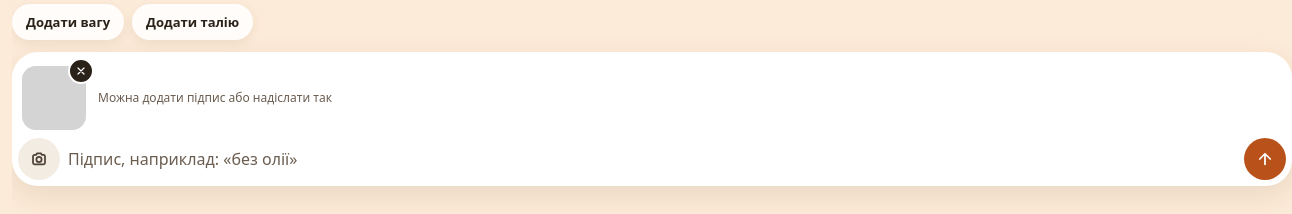
Test case: (3) the right slot: mic without a photo, «надіслати» with one › brings the mic back once the photo is removed
This screenshot has width=1292, height=214.
What coordinates should you click on to do the following:
click the button named "Прибрати фото"
I would click on:
 (81, 71)
Its box is [68, 58, 94, 84].
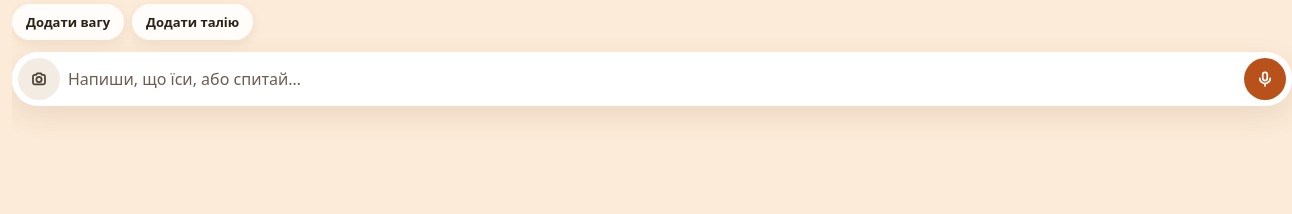
Check: the button named "Голосове повідомлення" is shown, box [1244, 58, 1286, 100]
